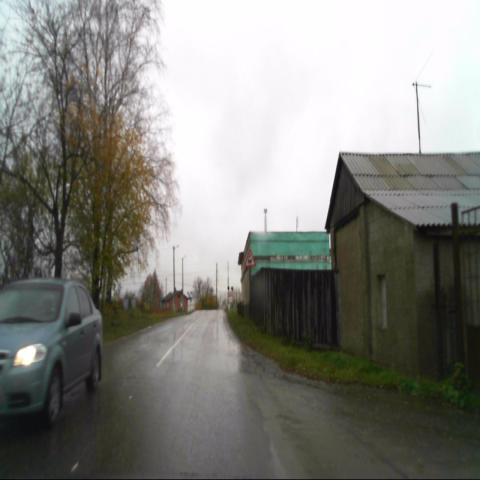1_2: (245, 247, 256, 268)
